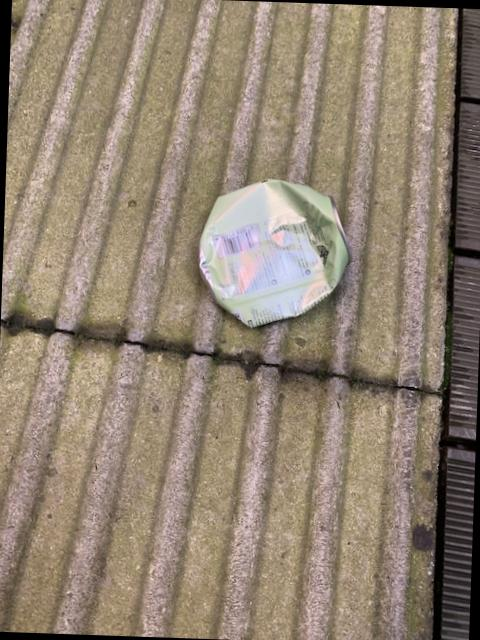metal: (201, 177, 351, 325)
